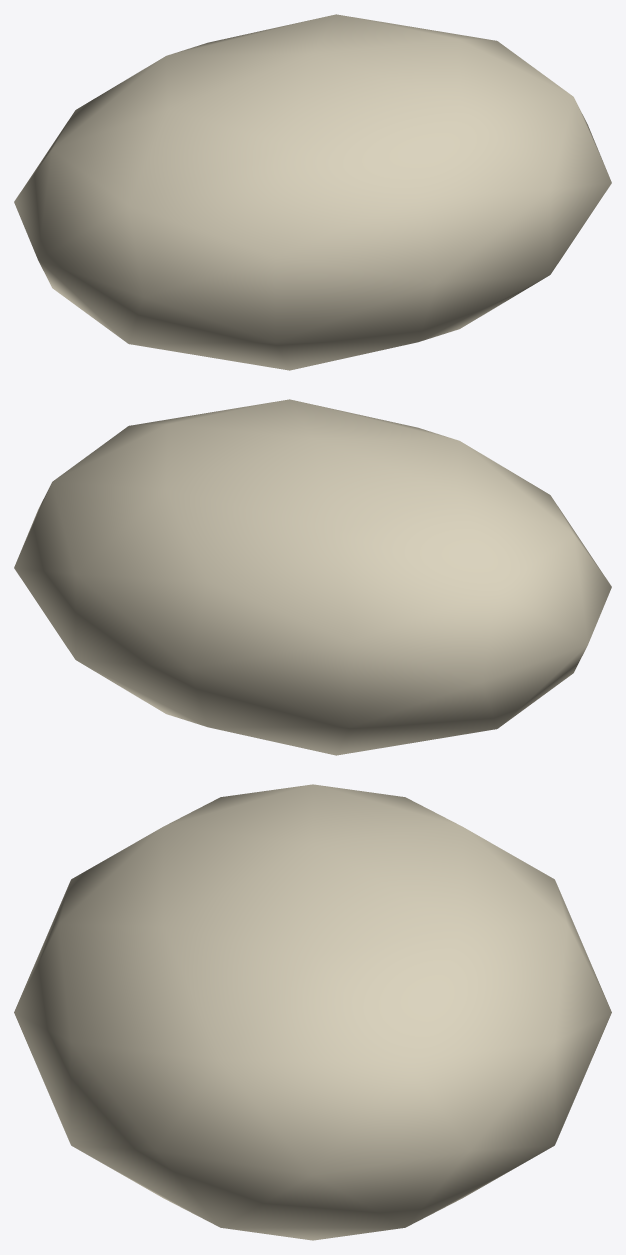
File: hill_marker_standard.glb
3 views of the same model, one above another, from view 1: azimuth 30°, elevation 25°; view 2: azimuth 150°, elevation 25°; view 3: azimuth 270°, elevation 25° (orthographic). The views are drawn at different scales.
Visible parts, largest first — view 1: Stone_sand; view 2: Stone_sand; view 3: Stone_sand.
Part boxes in pixels (bbox=[...]): Stone_sand: bbox=[14, 14, 611, 370]; Stone_sand: bbox=[14, 399, 611, 755]; Stone_sand: bbox=[14, 784, 611, 1240].
Size of the model in its own units: 1.78 by 0.858 by 1.39.
